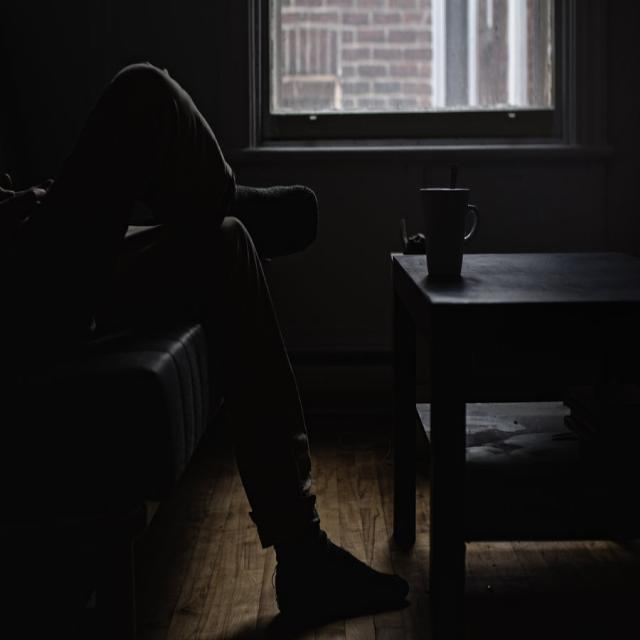Cup: (415, 176, 484, 287)
People: (0, 84, 395, 621)
Table: (347, 235, 640, 580)
chair: (0, 238, 309, 622)
